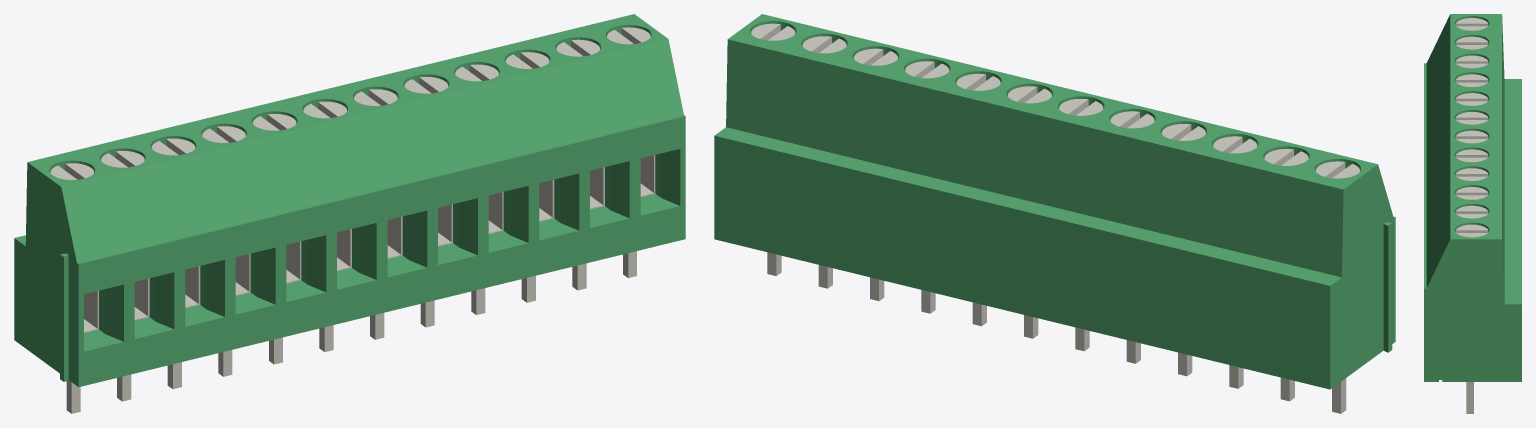
Rendered from kc-terminalblock_phoenix_mkds-3-12-5.08_1x12_p5.08mm_horizontal.glb.
The picture shows the model from 3 angles, left to right: view 1: azimuth 30°, elevation 25°; view 2: azimuth 150°, elevation 25°; view 3: azimuth 270°, elevation 25°; orthographic projection. The views are drawn at different scales.
Visible parts, largest first — view 1: 0.08333333333333333_0.4166666666666667_0.16666666666666666_0, 0.6666666666666666_0.6666666666666666_0.5833333333333334_0.8; view 2: 0.08333333333333333_0.4166666666666667_0.16666666666666666_0, 0.6666666666666666_0.6666666666666666_0.5833333333333334_0.8; view 3: 0.08333333333333333_0.4166666666666667_0.16666666666666666_0, 0.6666666666666666_0.6666666666666666_0.5833333333333334_0.8.
Part boxes in pixels (x1=…): 0.08333333333333333_0.4166666666666667_0.16666666666666666_0: x1=14, y1=14, x2=685, y2=387; 0.6666666666666666_0.6666666666666666_0.5833333333333334_0.8: x1=50, y1=27, x2=655, y2=413; 0.08333333333333333_0.4166666666666667_0.16666666666666666_0: x1=714, y1=14, x2=1395, y2=389; 0.6666666666666666_0.6666666666666666_0.5833333333333334_0.8: x1=751, y1=23, x2=1359, y2=413; 0.08333333333333333_0.4166666666666667_0.16666666666666666_0: x1=1424, y1=14, x2=1521, y2=381; 0.6666666666666666_0.6666666666666666_0.5833333333333334_0.8: x1=1455, y1=18, x2=1488, y2=413.
Size of the model in its own units: 6.15 by 2.3 by 1.12.
